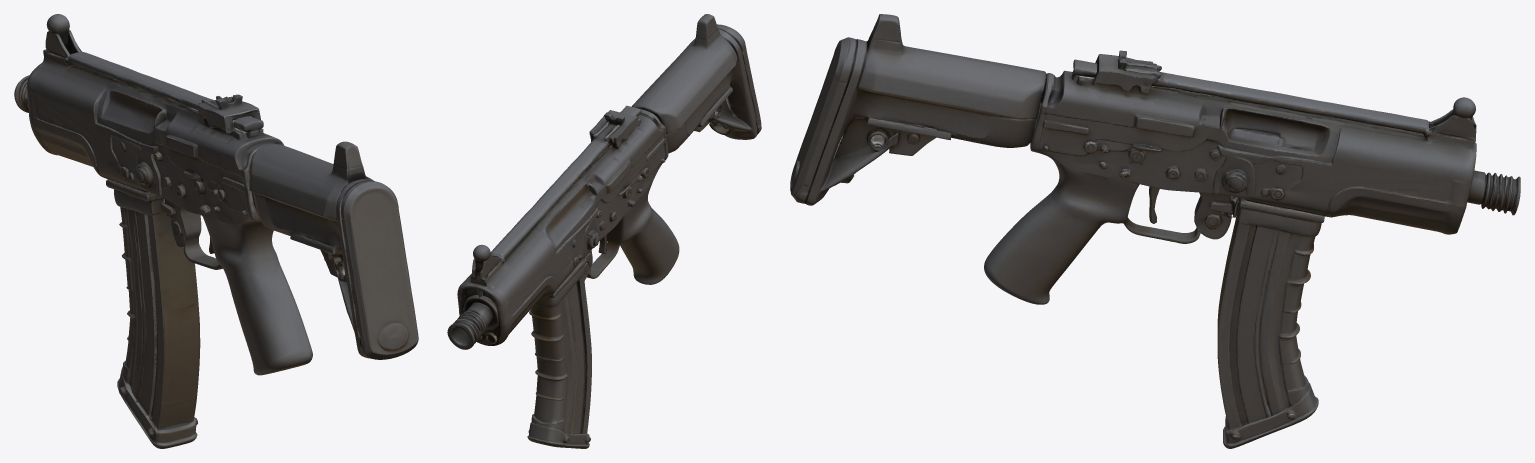
The model's file is uzi.glb.
3 views of the same model, side by side, from view 1: azimuth 30°, elevation 25°; view 2: azimuth 150°, elevation 25°; view 3: azimuth 270°, elevation 25° (orthographic). The views are drawn at different scales.
Visible parts, largest first — view 1: tripo_node_4f6fde4b-d2a9-470b-bfed-6a2a3463dfb5; view 2: tripo_node_4f6fde4b-d2a9-470b-bfed-6a2a3463dfb5; view 3: tripo_node_4f6fde4b-d2a9-470b-bfed-6a2a3463dfb5.
Part boxes in pixels (x1,y1,x2,y2): tripo_node_4f6fde4b-d2a9-470b-bfed-6a2a3463dfb5: (14,14,418,448); tripo_node_4f6fde4b-d2a9-470b-bfed-6a2a3463dfb5: (447,14,761,448); tripo_node_4f6fde4b-d2a9-470b-bfed-6a2a3463dfb5: (790,14,1520,448).
Size of the model in its own units: 0.1125 by 0.642 by 0.9973.
Materials: 1 (1 with a texture image).
